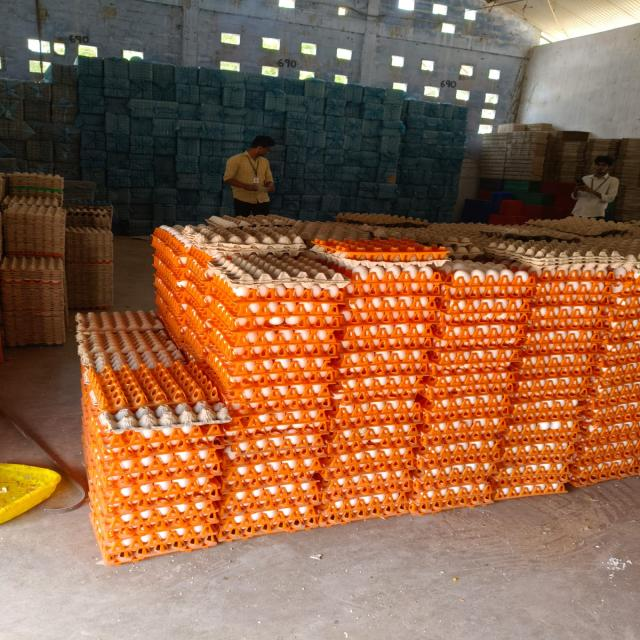egg_tray: (411, 262, 534, 512), (321, 263, 439, 523), (207, 324, 337, 539), (494, 269, 608, 499), (83, 390, 221, 564), (203, 256, 346, 399), (323, 349, 426, 521), (83, 380, 230, 490), (184, 276, 341, 375), (83, 384, 228, 490), (570, 268, 639, 486), (321, 372, 421, 522), (83, 408, 223, 515), (411, 363, 510, 512), (84, 434, 221, 538), (220, 410, 329, 539), (219, 410, 327, 540), (156, 290, 337, 362), (181, 256, 341, 334), (336, 280, 436, 402), (325, 367, 420, 494), (83, 416, 221, 502), (77, 331, 218, 411), (320, 401, 418, 516), (205, 329, 338, 413), (90, 478, 218, 564), (207, 254, 347, 330), (83, 388, 228, 460), (319, 423, 417, 523), (523, 268, 611, 376), (412, 412, 506, 512), (90, 492, 219, 564), (434, 261, 535, 351), (340, 263, 441, 350), (226, 386, 331, 464), (336, 263, 441, 340), (207, 353, 334, 416), (492, 410, 581, 499), (334, 323, 431, 404), (206, 251, 346, 302), (153, 228, 208, 357), (313, 241, 442, 296), (207, 344, 335, 398), (90, 511, 218, 565), (417, 395, 510, 469), (438, 260, 537, 329), (218, 476, 323, 541), (216, 480, 325, 542), (152, 226, 210, 341), (83, 362, 219, 411), (525, 279, 610, 356), (326, 254, 441, 310), (207, 285, 342, 332), (76, 312, 184, 370), (159, 304, 253, 369), (514, 344, 594, 420), (93, 494, 219, 538), (503, 397, 584, 464), (483, 234, 639, 268), (569, 412, 639, 486), (329, 398, 421, 453), (414, 434, 501, 492), (322, 468, 412, 523), (523, 320, 605, 379), (225, 419, 327, 465), (503, 389, 586, 445), (209, 328, 338, 364), (492, 443, 571, 499), (76, 330, 183, 371), (156, 295, 210, 376), (602, 269, 639, 381), (99, 401, 230, 432), (180, 224, 306, 256), (438, 260, 537, 300), (337, 349, 429, 392), (428, 334, 522, 376), (152, 227, 218, 286), (65, 227, 113, 308), (155, 271, 206, 347), (569, 431, 639, 486), (227, 250, 328, 288), (0, 259, 66, 317), (225, 408, 331, 443), (154, 249, 211, 314), (332, 397, 422, 438), (314, 239, 447, 266), (224, 277, 339, 308), (154, 264, 214, 323), (346, 285, 439, 323), (371, 228, 485, 259), (530, 265, 614, 307), (322, 484, 408, 525), (76, 329, 183, 361), (331, 367, 422, 404), (3, 203, 65, 257), (309, 238, 407, 272), (408, 475, 493, 514), (420, 410, 508, 447), (321, 441, 406, 478), (180, 224, 299, 250), (151, 226, 209, 278), (327, 421, 418, 454), (421, 369, 517, 400), (483, 236, 578, 266), (605, 268, 639, 350), (152, 227, 208, 276), (501, 433, 575, 470), (341, 321, 432, 351), (341, 322, 432, 352), (529, 298, 609, 332), (423, 392, 511, 422), (434, 322, 525, 351), (3, 304, 65, 346), (154, 257, 193, 322), (178, 336, 219, 396), (439, 299, 530, 326), (182, 345, 223, 402), (324, 492, 399, 523), (221, 216, 300, 245), (442, 298, 530, 324), (0, 255, 63, 291), (518, 353, 600, 380), (416, 223, 501, 249), (528, 216, 637, 236), (512, 395, 587, 424), (523, 329, 603, 356), (482, 238, 555, 267), (415, 230, 483, 260), (513, 376, 590, 402), (292, 220, 372, 245), (4, 197, 64, 229), (76, 311, 163, 333), (292, 221, 373, 244), (597, 341, 639, 385), (0, 256, 63, 285), (360, 225, 444, 246), (586, 220, 639, 253), (591, 403, 639, 438), (588, 378, 639, 410), (9, 172, 63, 200), (492, 481, 566, 501), (140, 421, 222, 438), (607, 302, 639, 345), (494, 225, 580, 241), (336, 212, 428, 226), (206, 214, 297, 228), (66, 203, 113, 230), (3, 188, 62, 208), (152, 225, 191, 255), (427, 223, 494, 238), (223, 214, 299, 227), (438, 238, 482, 260), (158, 278, 182, 314), (65, 200, 113, 217), (2, 196, 59, 208), (337, 212, 387, 225), (205, 216, 244, 228), (370, 493, 386, 515), (394, 369, 415, 382), (433, 374, 457, 384), (110, 411, 131, 422), (539, 422, 559, 432), (92, 217, 110, 228), (478, 466, 494, 477), (190, 255, 203, 268), (207, 221, 220, 234), (276, 443, 291, 454), (301, 441, 321, 449), (346, 502, 356, 518), (510, 316, 526, 326), (367, 302, 386, 310), (255, 364, 270, 374), (385, 278, 395, 293), (359, 243, 379, 250), (355, 241, 369, 250), (186, 250, 193, 267), (344, 513, 358, 521), (546, 365, 560, 373), (374, 326, 386, 335), (371, 438, 383, 447), (396, 240, 414, 246), (358, 267, 367, 278), (422, 474, 430, 486), (352, 301, 362, 310), (371, 240, 382, 248), (391, 332, 403, 339), (385, 266, 394, 275), (388, 216, 398, 224), (490, 318, 502, 324), (345, 502, 355, 509), (511, 307, 521, 314), (505, 330, 512, 340), (197, 314, 204, 323), (214, 462, 219, 474), (331, 258, 341, 264), (195, 371, 201, 380), (330, 517, 340, 522), (197, 296, 204, 303), (253, 256, 261, 262), (565, 354, 577, 358), (161, 458, 170, 463), (514, 332, 519, 341), (411, 261, 420, 266), (618, 404, 629, 408), (190, 282, 196, 289), (229, 264, 234, 272), (369, 325, 377, 330), (158, 308, 162, 318), (525, 374, 534, 378), (259, 374, 268, 378), (174, 308, 181, 313), (199, 296, 204, 303), (345, 316, 351, 321), (361, 352, 366, 358), (350, 326, 356, 331), (441, 385, 446, 391), (426, 378, 432, 383), (219, 259, 225, 264), (382, 244, 388, 249), (290, 272, 297, 276), (372, 251, 379, 255), (29, 258, 42, 260), (5, 290, 10, 295), (396, 270, 401, 275), (209, 410, 214, 415), (355, 340, 361, 344), (330, 262, 338, 265), (486, 339, 492, 343), (204, 290, 210, 294), (434, 449, 440, 453), (235, 218, 247, 220), (169, 318, 174, 322), (294, 251, 299, 255), (405, 281, 410, 285), (358, 250, 362, 255), (348, 243, 353, 247), (212, 362, 218, 365), (327, 353, 333, 356), (374, 291, 380, 294), (154, 262, 157, 268), (385, 364, 393, 366), (173, 436, 177, 440), (460, 374, 468, 376), (375, 487, 379, 491), (437, 252, 441, 256), (185, 281, 188, 286), (34, 229, 39, 232), (137, 495, 142, 498), (243, 363, 248, 366), (565, 260, 570, 263), (373, 267, 378, 270), (341, 243, 346, 246), (542, 460, 549, 462), (363, 344, 370, 346), (194, 251, 201, 253), (306, 450, 312, 452), (220, 398, 223, 402), (275, 368, 278, 372), (202, 352, 205, 356), (402, 500, 405, 504), (334, 495, 338, 498), (410, 363, 414, 366), (612, 428, 616, 431), (115, 498, 119, 501), (263, 361, 269, 363), (300, 247, 304, 250), (356, 341, 361, 343), (5, 258, 10, 260), (354, 336, 359, 338), (503, 483, 508, 485), (157, 230, 162, 232), (492, 336, 497, 338), (172, 331, 175, 334), (328, 339, 331, 342), (507, 338, 510, 341), (150, 491, 153, 494), (198, 225, 201, 228), (88, 369, 92, 371), (230, 505, 232, 509), (203, 301, 207, 303), (261, 302, 265, 304), (156, 494, 160, 496), (358, 238, 366, 239), (477, 334, 479, 338), (374, 433, 378, 435), (422, 261, 426, 263), (434, 464, 438, 466), (377, 402, 380, 404), (396, 338, 402, 339), (291, 332, 294, 334), (402, 498, 405, 500), (327, 255, 330, 257), (197, 296, 199, 299), (466, 378, 469, 380), (454, 317, 457, 319), (167, 234, 170, 236), (273, 414, 276, 416), (635, 408, 636, 414), (634, 403, 637, 405), (479, 342, 482, 344), (567, 347, 570, 349), (472, 468, 475, 470), (352, 280, 354, 283), (378, 274, 381, 276), (199, 411, 202, 413), (437, 250, 440, 252), (442, 249, 444, 252), (112, 524, 115, 526), (232, 240, 235, 242), (562, 371, 567, 372), (539, 423, 544, 424), (404, 344, 409, 345), (166, 228, 171, 229), (579, 356, 584, 357), (380, 402, 382, 404), (240, 340, 242, 342), (252, 334, 254, 336), (239, 258, 243, 259), (344, 340, 346, 342), (550, 432, 552, 434), (548, 434, 550, 436), (576, 416, 578, 418), (330, 323, 332, 325), (340, 278, 342, 280), (172, 238, 174, 240), (195, 300, 197, 302), (246, 225, 250, 226), (474, 331, 476, 333), (269, 391, 271, 393), (316, 349, 318, 351), (451, 467, 453, 469), (413, 245, 415, 247), (196, 304, 198, 306), (95, 507, 97, 509), (424, 318, 427, 319), (273, 380, 276, 381), (318, 265, 321, 266), (243, 259, 244, 262), (278, 302, 281, 303), (350, 347, 351, 350), (154, 259, 155, 262), (174, 430, 177, 431), (566, 360, 569, 361), (126, 496, 129, 497), (254, 407, 257, 408), (165, 234, 168, 235), (363, 514, 366, 515), (483, 329, 484, 332), (92, 416, 93, 419), (291, 253, 294, 254), (540, 460, 542, 461), (192, 300, 193, 302), (342, 278, 343, 280), (329, 273, 330, 275), (474, 392, 476, 393), (515, 421, 516, 423), (36, 307, 38, 308), (26, 307, 28, 308), (182, 487, 184, 488), (321, 238, 323, 239), (271, 414, 273, 415), (496, 328, 497, 330), (572, 345, 574, 346), (556, 243, 558, 244), (431, 473, 433, 474), (358, 433, 359, 435), (380, 267, 382, 268), (354, 252, 356, 253), (363, 345, 364, 346), (234, 365, 235, 366), (285, 325, 286, 326), (265, 443, 266, 444), (163, 320, 164, 321), (131, 498, 132, 499), (462, 502, 463, 503), (338, 283, 339, 284), (36, 205, 37, 206), (87, 418, 88, 419), (85, 372, 86, 372), (250, 422, 250, 423), (350, 349, 350, 350), (237, 492, 244, 492), (237, 381, 240, 381), (298, 270, 298, 270), (296, 268, 297, 268), (300, 265, 301, 265), (267, 303, 268, 303), (245, 303, 246, 303), (325, 280, 325, 282), (300, 270, 301, 270), (361, 506, 361, 508), (370, 501, 370, 501), (345, 363, 346, 363), (394, 345, 398, 345), (171, 230, 172, 230), (556, 401, 558, 401), (559, 356, 562, 356), (16, 290, 17, 290), (205, 262, 205, 264), (270, 370, 270, 370), (518, 479, 519, 479), (508, 330, 510, 330), (281, 265, 281, 266), (159, 234, 160, 234), (263, 296, 263, 296), (309, 412, 310, 412), (207, 329, 207, 330), (325, 512, 327, 512), (257, 225, 262, 225), (621, 252, 622, 252), (594, 234, 594, 235), (577, 232, 579, 232), (282, 354, 288, 354), (463, 472, 463, 476), (416, 250, 417, 250), (439, 248, 442, 248), (583, 312, 585, 312), (472, 470, 474, 470)
